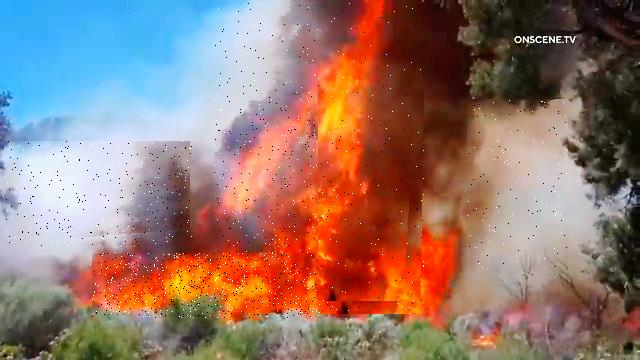fire: (214, 67, 424, 314), (318, 2, 419, 301), (93, 254, 321, 319)
smoke: (5, 142, 193, 247), (468, 100, 571, 277), (214, 1, 318, 63)
